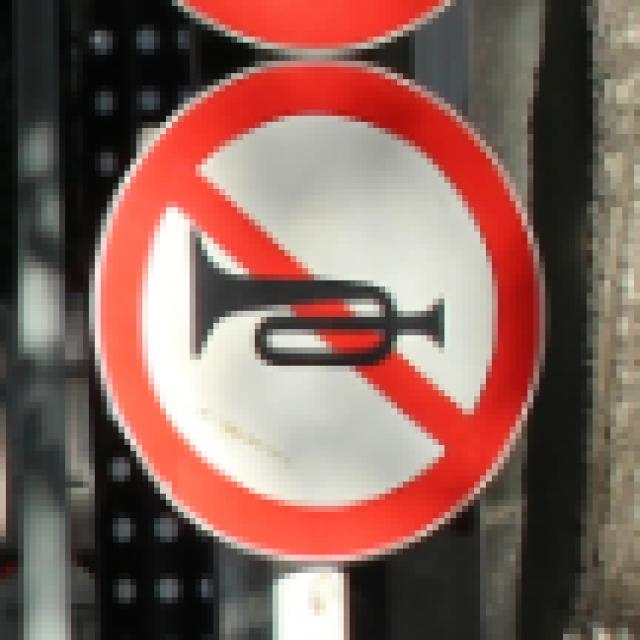No Horn: (92, 54, 548, 556)
